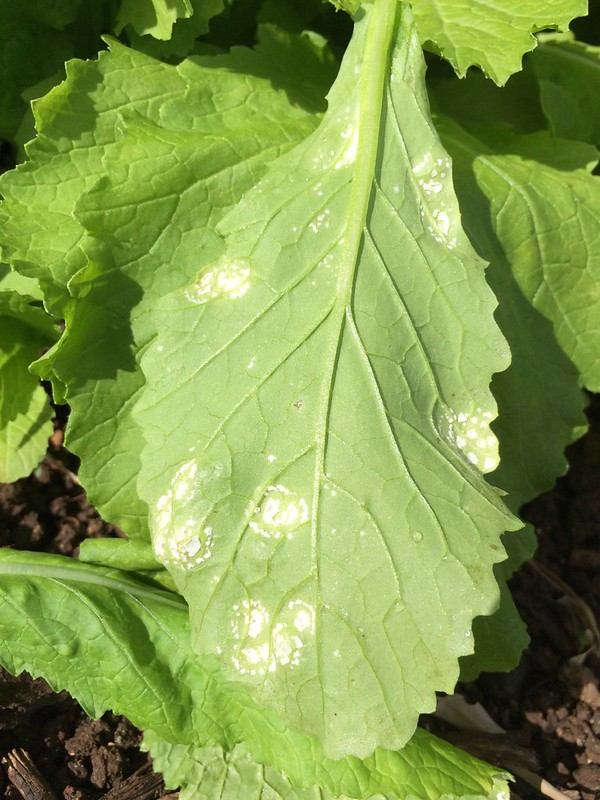Mustard_WhiteRust: (173, 48, 489, 738)
